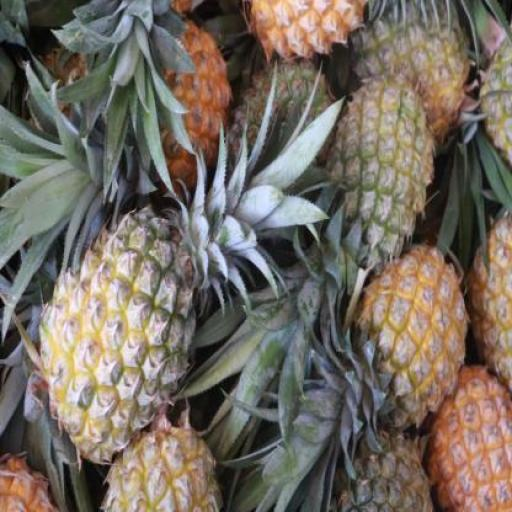------------------------------: (39, 217, 192, 465), (329, 82, 428, 276), (352, 0, 470, 144), (101, 408, 223, 510)
Pineapple - v8 v1: (362, 245, 468, 428), (427, 365, 512, 512)
